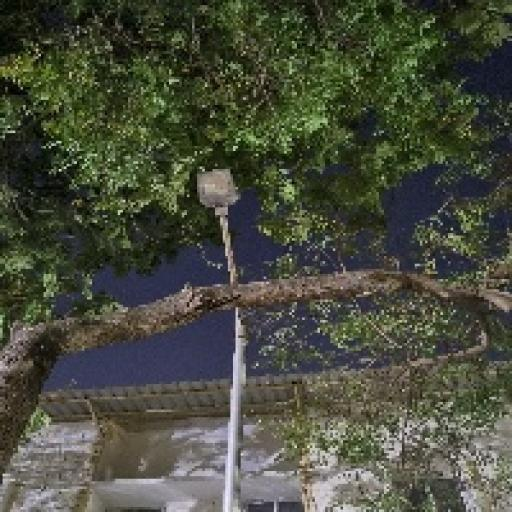Not Working: (181, 150, 254, 224)
